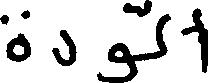أ: (186, 6, 206, 76), (152, 11, 173, 61)
ة: (0, 7, 30, 62)
د: (52, 27, 73, 66)
و: (93, 39, 139, 82)
